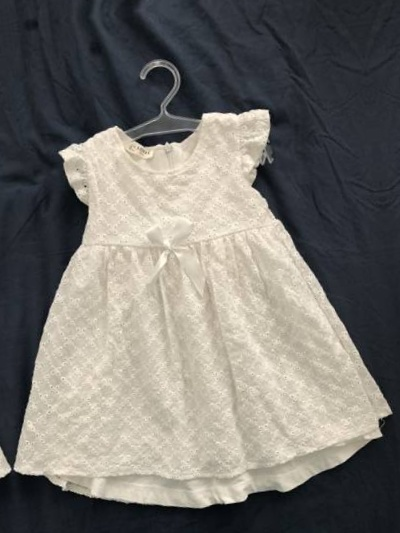Dress: (0, 64, 400, 533), (0, 115, 17, 533), (387, 9, 400, 485)
